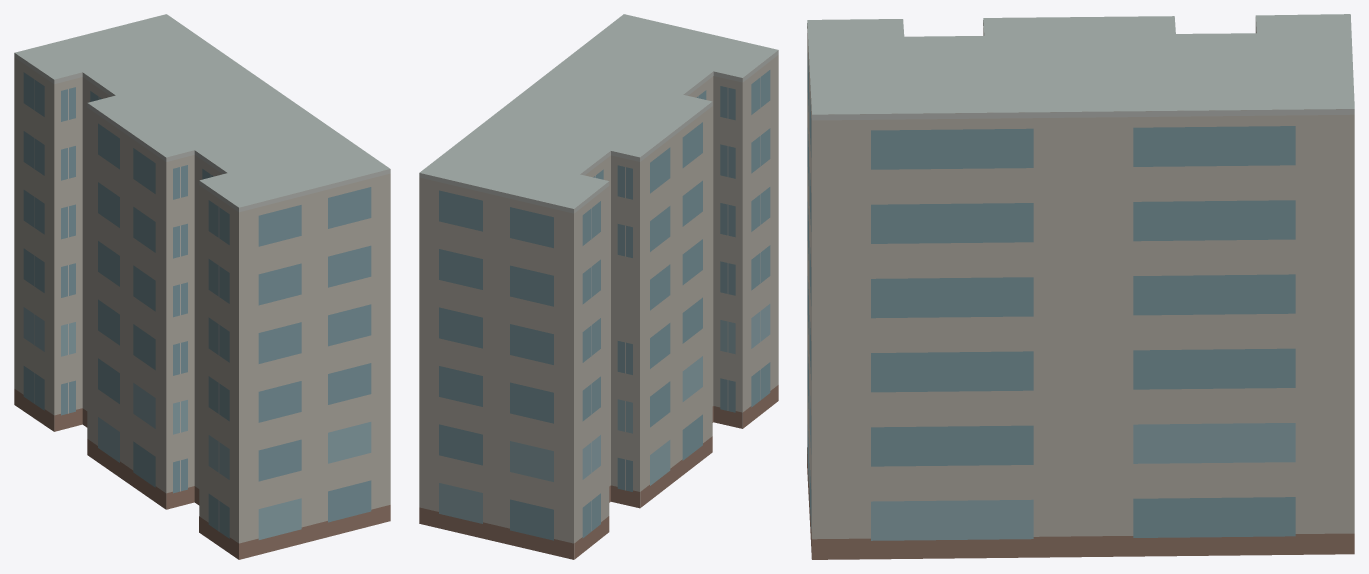
Rendered from survey-upis-32562309.glb.
3 renders of one model, left to right at view 1: azimuth 30°, elevation 25°; view 2: azimuth 150°, elevation 25°; view 3: azimuth 270°, elevation 25°, orthographic. The views are drawn at different scales.
Parts seen in each view (by area): view 1: survey-upis-32562309.tmp; view 2: survey-upis-32562309.tmp; view 3: survey-upis-32562309.tmp.
Boxes of the visible parts, x1,y1,x2,y2 form: survey-upis-32562309.tmp: [14, 14, 390, 559]; survey-upis-32562309.tmp: [419, 14, 778, 559]; survey-upis-32562309.tmp: [807, 14, 1354, 559].
Size of the model in its own units: 9.02 by 18.6 by 20.75.
